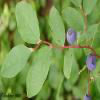Blueberry leaf: (26, 44, 54, 100), (0, 42, 32, 80), (15, 1, 42, 45), (46, 3, 66, 46), (60, 5, 86, 32), (62, 47, 74, 84), (86, 23, 100, 43)
